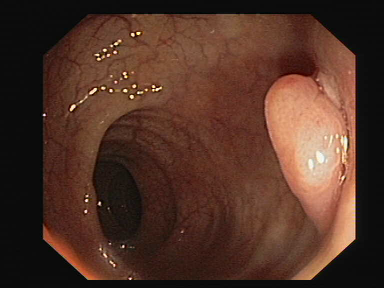polyp: (226, 67, 358, 224)
